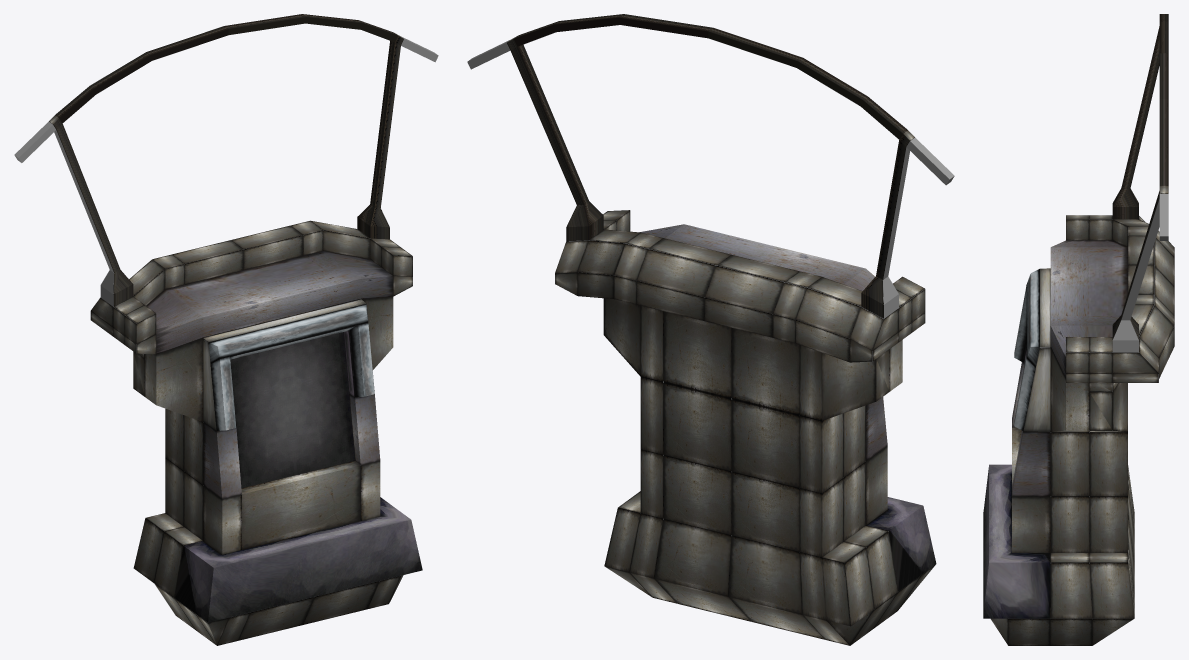
File: insurance.DAE
3 views of the same model, side by side, from view 1: azimuth 30°, elevation 25°; view 2: azimuth 150°, elevation 25°; view 3: azimuth 270°, elevation 25° (orthographic). The views are drawn at different scales.
Parts seen in each view (by area): view 1: Box003; view 2: Box003; view 3: Box003.
Part boxes in pixels (x1,y1,x2,y2): Box003: [14, 14, 438, 645]; Box003: [467, 14, 954, 645]; Box003: [983, 14, 1174, 645].
Bounding box in the file's own units: 2.13 × 2.62 × 0.8236.
